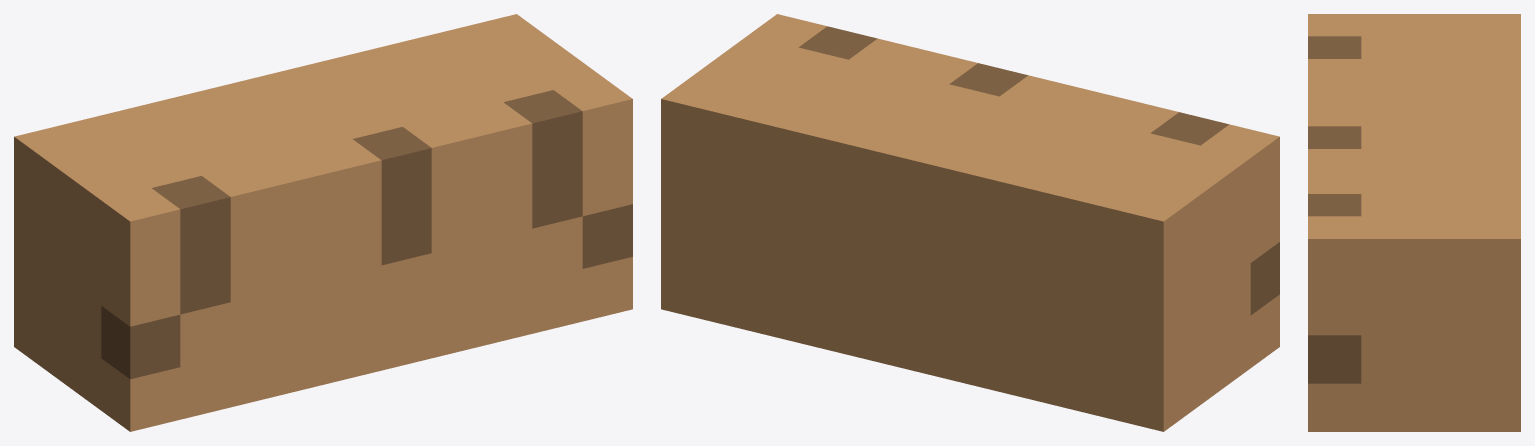
The model's file is BUTTY_HIPS.obj.
3 views of the same model, side by side, from view 1: azimuth 30°, elevation 25°; view 2: azimuth 150°, elevation 25°; view 3: azimuth 270°, elevation 25° (orthographic). The views are drawn at different scales.
Bounding box in the file's own units: 1 × 0.4 × 0.4.
Materials: 1 (1 with a texture image).
